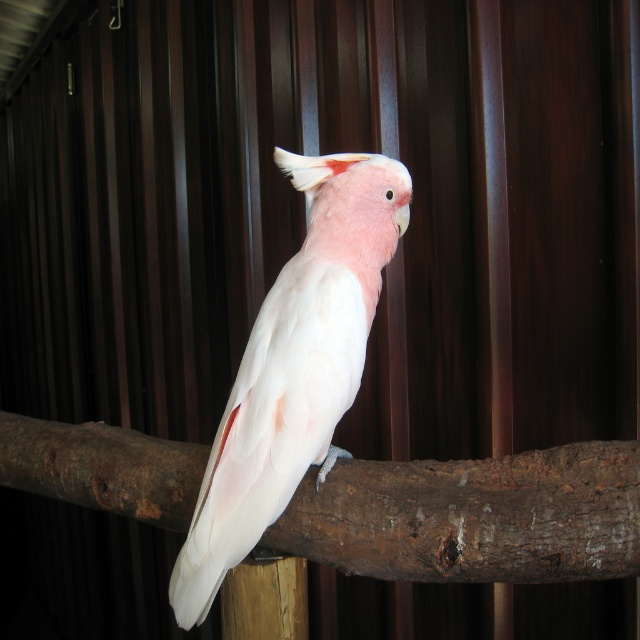Parrot: (168, 146, 413, 631)
